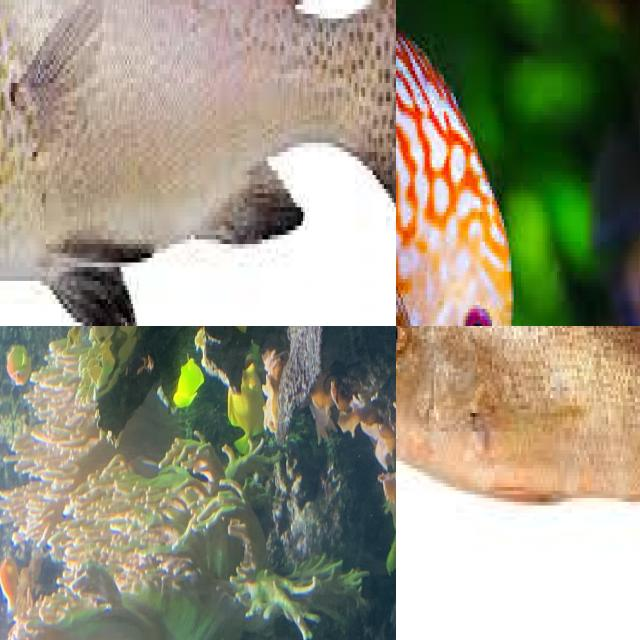fish: (0, 0, 396, 326), (396, 63, 640, 326), (396, 326, 640, 546)
